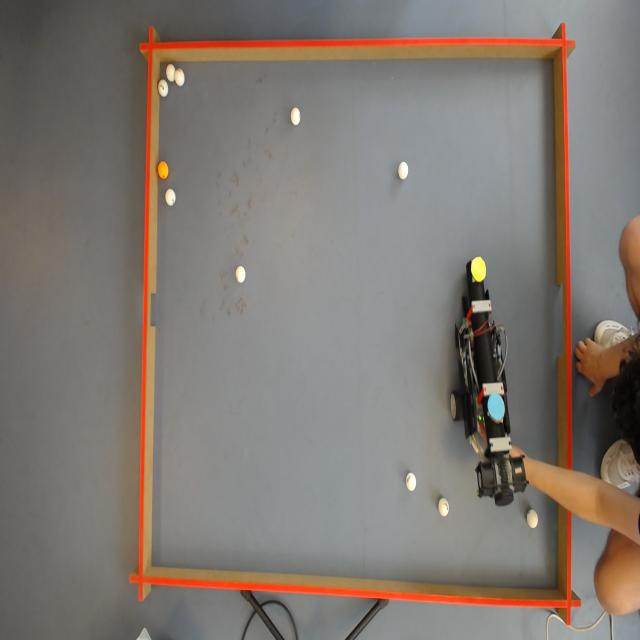orange: (158, 160, 170, 180)
robot: (448, 249, 528, 507)
robot-front: (472, 258, 487, 282)
robot-rear: (486, 390, 508, 421)
white: (526, 509, 539, 529), (405, 471, 417, 492), (398, 160, 410, 180), (438, 499, 450, 518), (157, 79, 169, 97), (290, 108, 302, 126), (175, 68, 185, 88), (165, 64, 175, 82), (165, 190, 176, 206), (236, 267, 247, 282)
